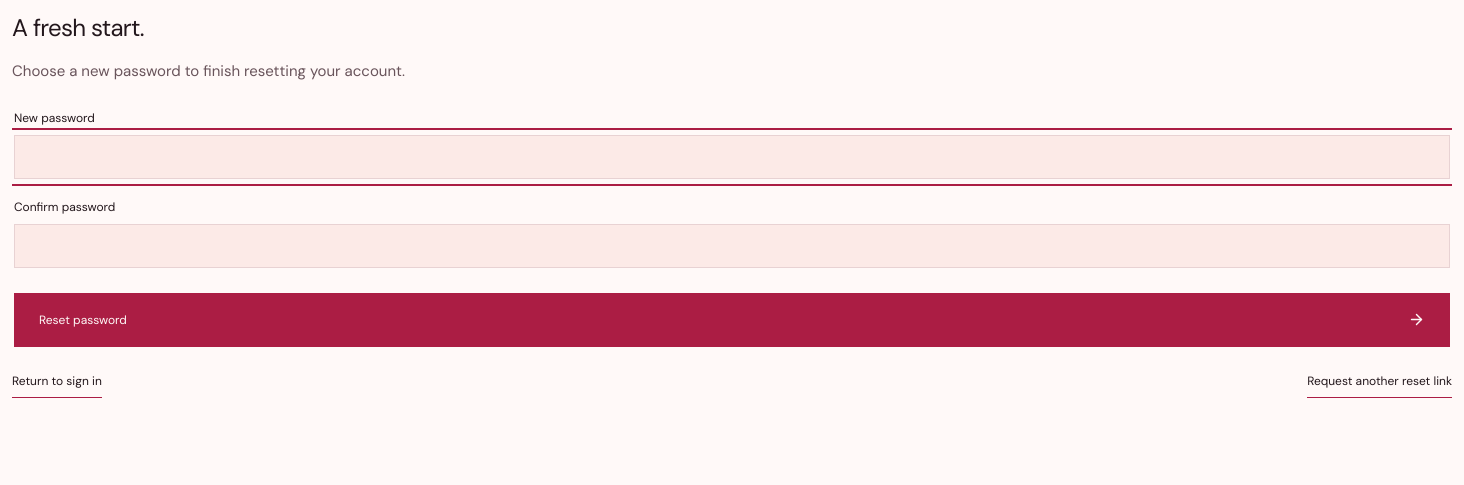
Scenario: offers a new link after an expired reset link
Type "fresh-password-123" into the password field labelled "New password". click: (732, 156)
box: top-left (14, 134), bottom-right (1450, 178)
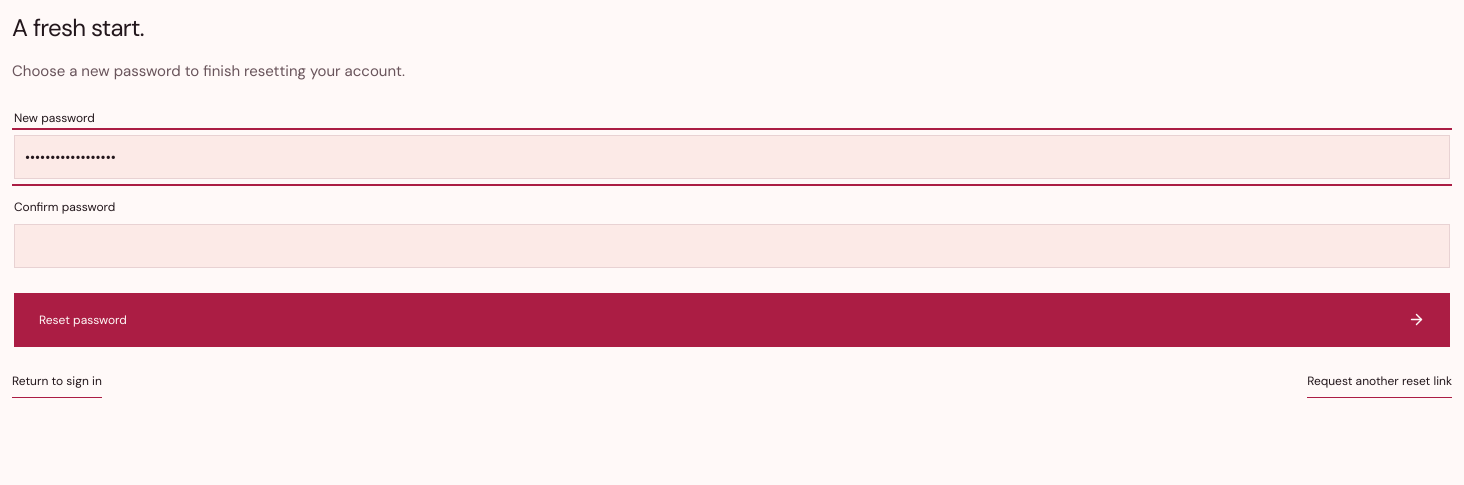
Type "fresh-password-123" into the password field labelled "Confirm password". click: (732, 246)
box: top-left (14, 224), bottom-right (1450, 268)
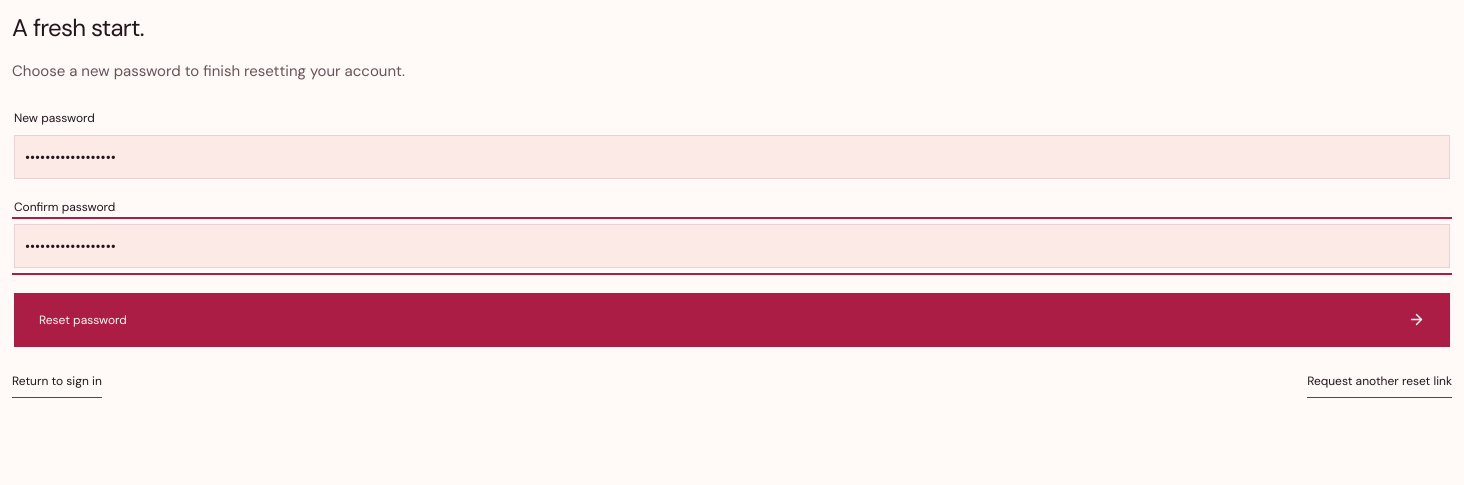
Click the button "Reset password". click: (83, 320)
box: top-left (14, 292), bottom-right (1450, 346)
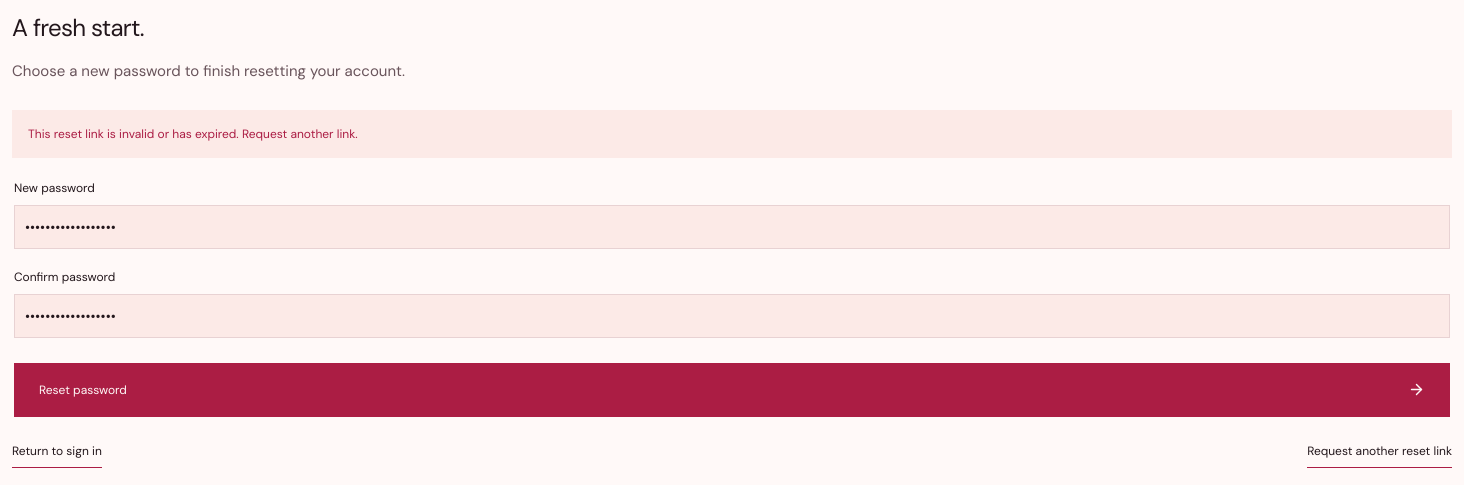
Now the message reads "This reset link is invalid or has expired. Request another link.", box top-left (28, 126), bottom-right (358, 142)
Click the button "Request another reset link". click: (1380, 451)
box: top-left (1307, 435), bottom-right (1452, 468)
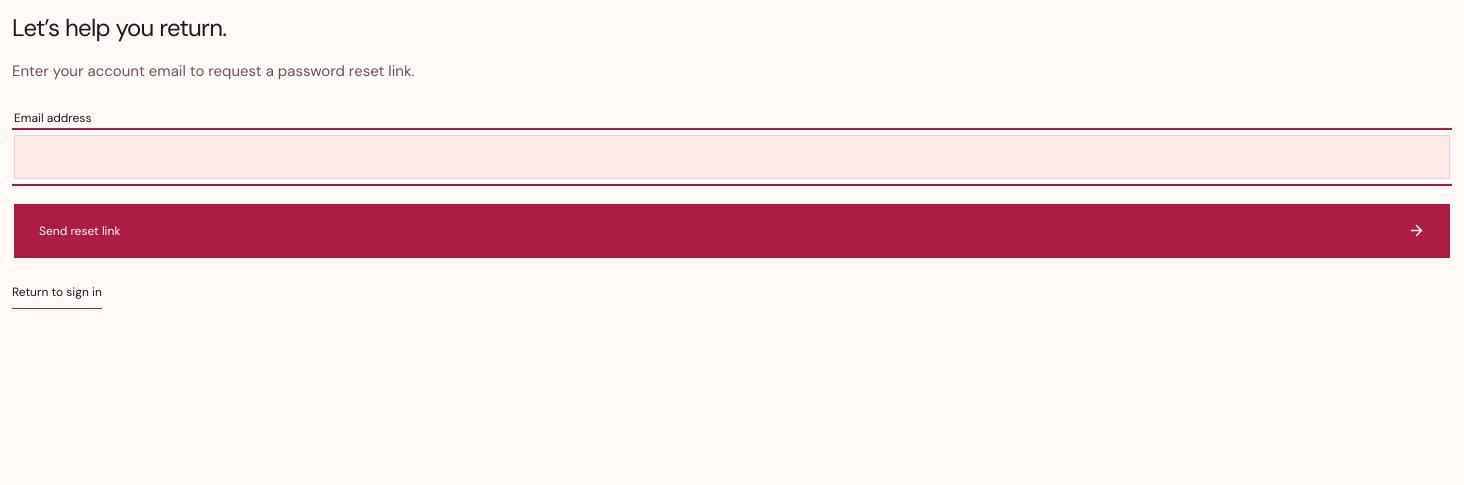
Now the field labelled "Email address" is shown, box top-left (14, 134), bottom-right (1450, 178)
Now the text labelled "new password" is gone
